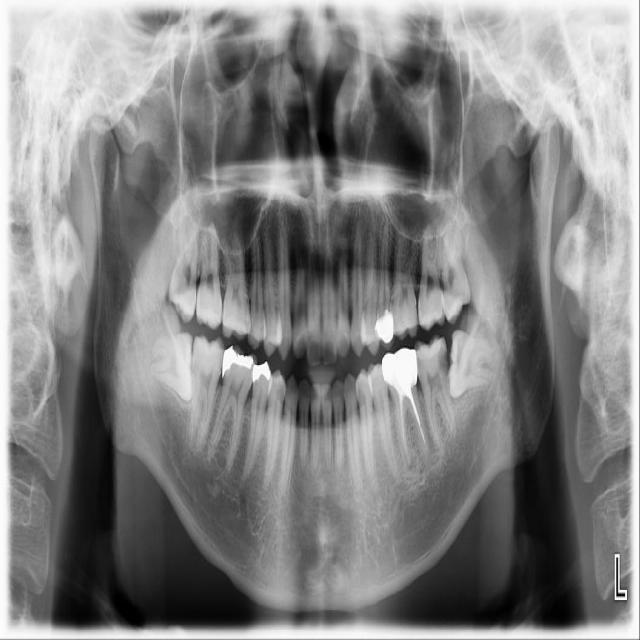Caries: (437, 348, 447, 374)
Crown: (382, 347, 418, 389), (376, 309, 394, 343)
Filling: (221, 345, 254, 378), (252, 361, 270, 383), (397, 382, 411, 397)
Periapical lesion: (407, 446, 422, 474)
Root Canal Treatment: (405, 389, 424, 444), (400, 395, 407, 450)
impacted tooth: (448, 331, 507, 397), (149, 332, 192, 399)
